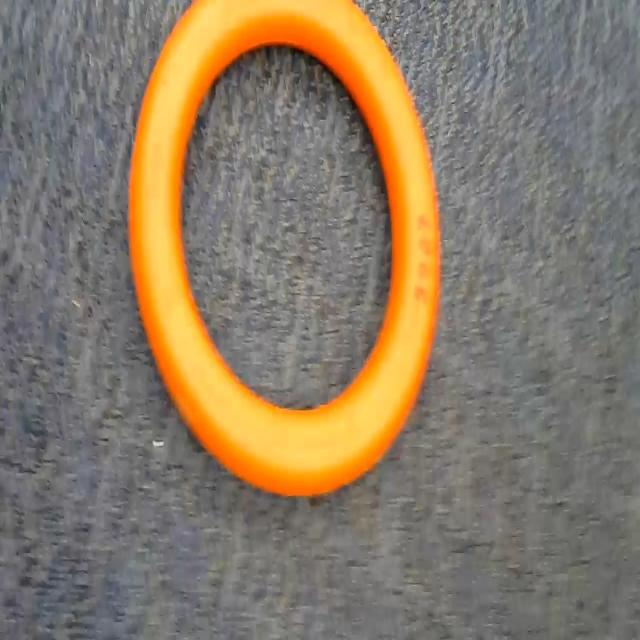note: (121, 0, 441, 525)
